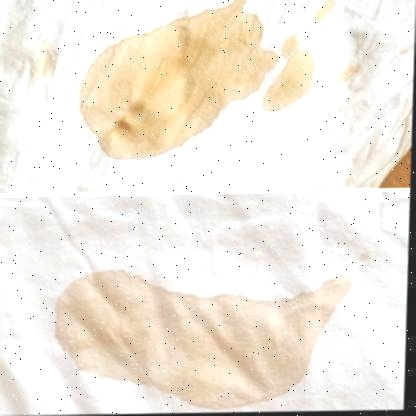coffee: (74, 299, 322, 380), (100, 52, 201, 124), (203, 17, 261, 89)
